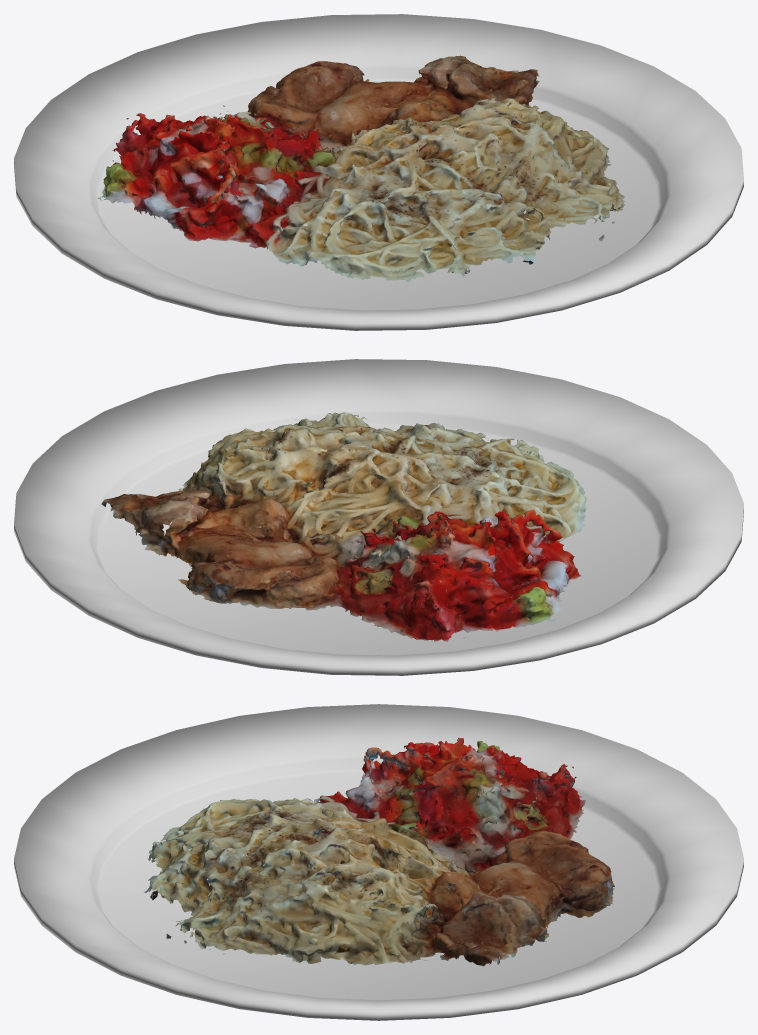
The model's file is Makarna.glb.
The picture shows the model from 3 angles, top to bottom: view 1: azimuth 30°, elevation 25°; view 2: azimuth 150°, elevation 25°; view 3: azimuth 270°, elevation 25°; orthographic projection.
Visible parts, largest first — view 1: Cylinder_Cylinder.001, Makarna2; view 2: Cylinder_Cylinder.001, Makarna2; view 3: Cylinder_Cylinder.001, Makarna2.
Boxes of the visible parts, x1=… form: Cylinder_Cylinder.001: x1=14, y1=14, x2=743, y2=330; Makarna2: x1=97, y1=55, x2=629, y2=282; Cylinder_Cylinder.001: x1=14, y1=359, x2=743, y2=675; Makarna2: x1=101, y1=412, x2=586, y2=641; Cylinder_Cylinder.001: x1=14, y1=704, x2=743, y2=1020; Makarna2: x1=143, y1=737, x2=614, y2=966.
Size of the model in its own units: 0.4234 by 0.0629 by 0.4234.
Materials: 2 (1 with a texture image).
